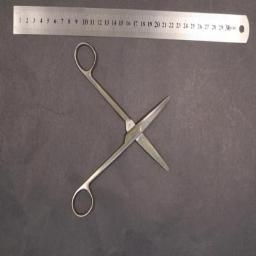Curved Mayo Scissors: (71, 42, 171, 218)
